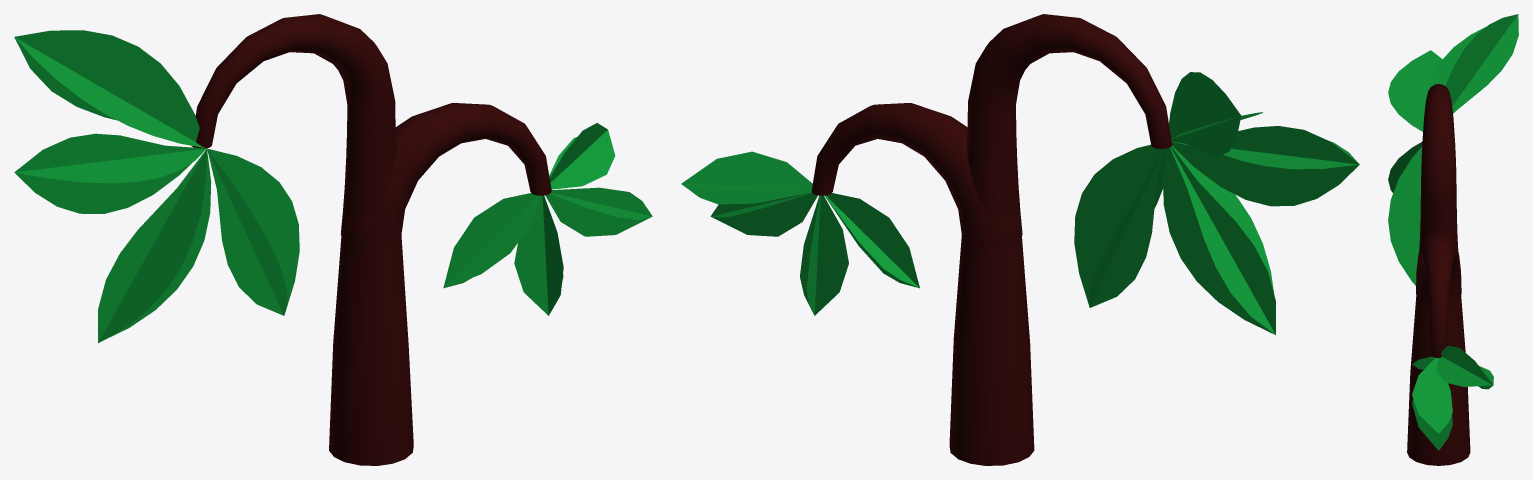
File: plant6.fbx
3 renders of one model, left to right at view 1: azimuth 30°, elevation 25°; view 2: azimuth 150°, elevation 25°; view 3: azimuth 270°, elevation 25°, orthographic. The views are drawn at different scales.
Visible parts, largest first — view 1: Leaves, Stem_2; view 2: Leaves, Stem_2; view 3: Leaves, Stem_2.
Boxes of the visible parts, x1,y1,x2,y2 form: Leaves: (14, 30, 652, 342); Stem_2: (191, 14, 551, 465); Leaves: (681, 72, 1359, 334); Stem_2: (811, 14, 1172, 465); Leaves: (1388, 14, 1518, 450); Stem_2: (1407, 84, 1470, 465).
Size of the model in its own units: 2.84 by 1.92 by 0.677.
